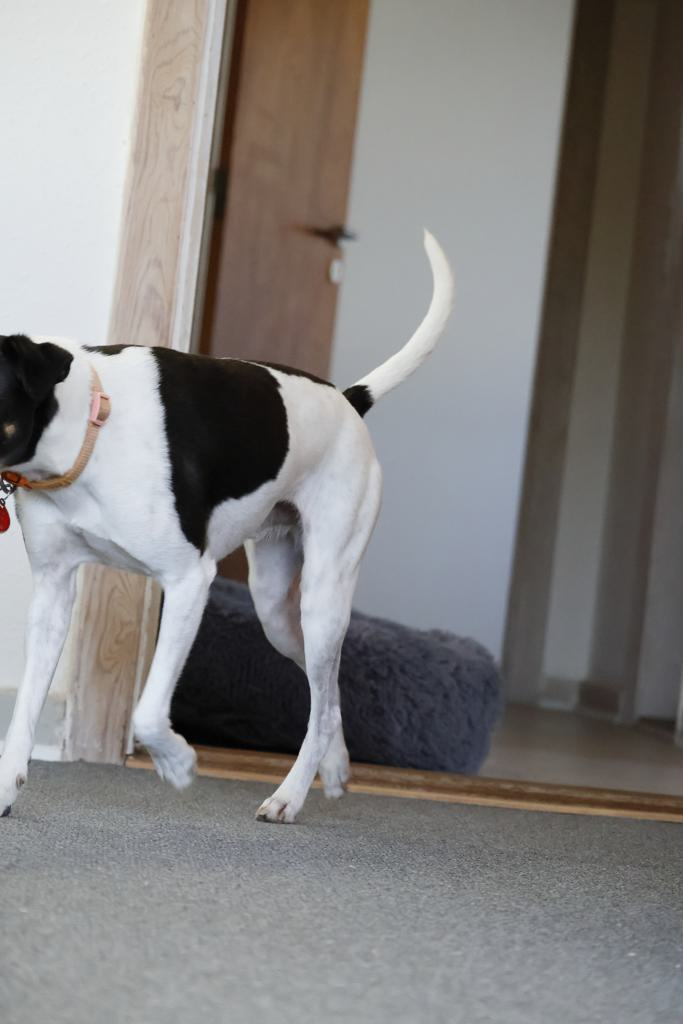Dog: (0, 212, 464, 835)
